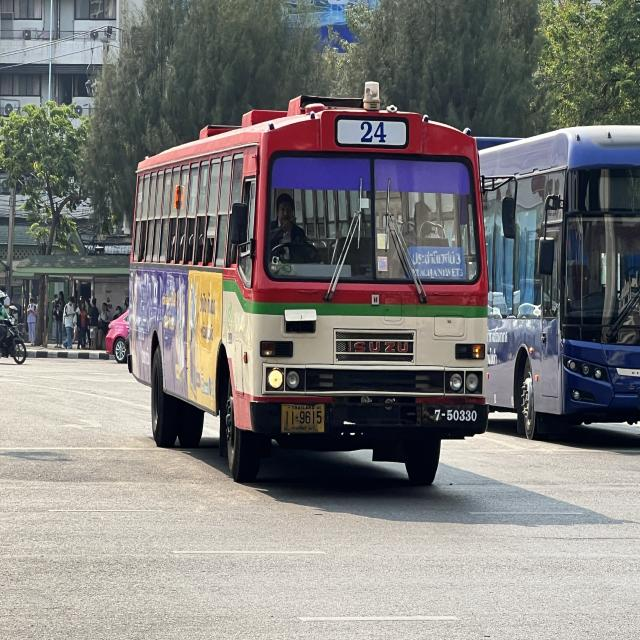BMTA-bus: (123, 85, 490, 488)
Bus-Line-Number: (335, 114, 411, 151)
Destination-Sign-Normal: (408, 242, 465, 282)
TSB-Bus: (478, 124, 640, 440)
